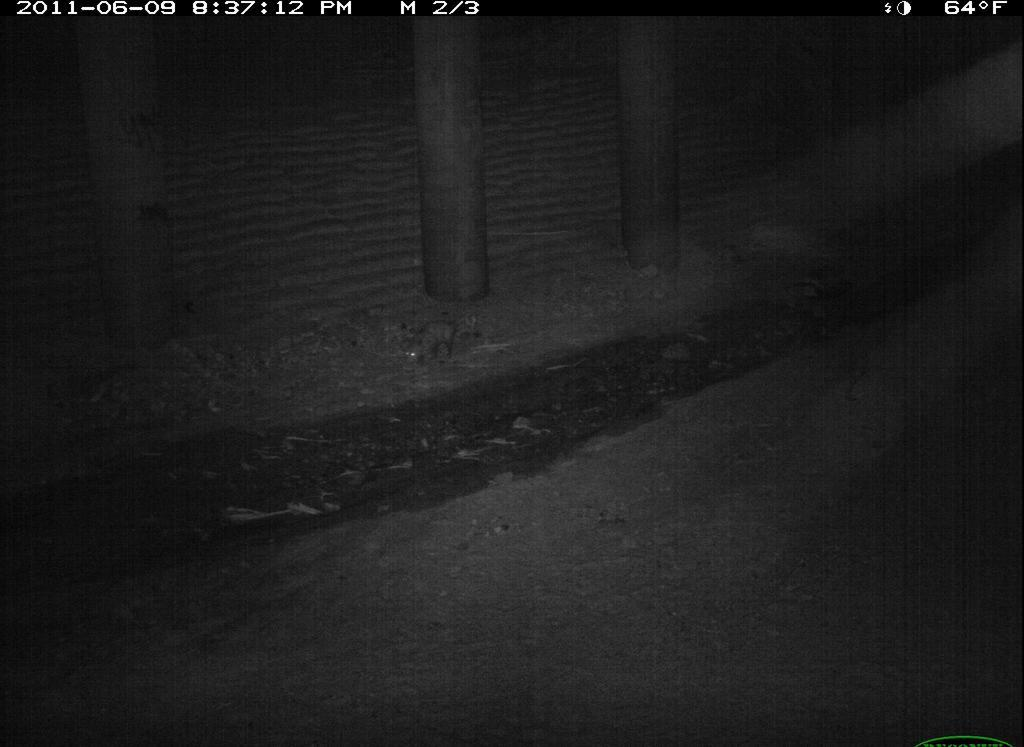opossum: (796, 611, 973, 745)
